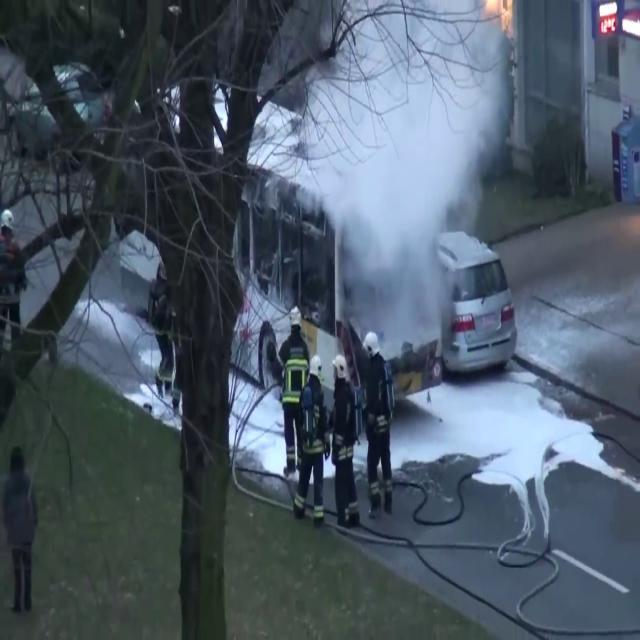Smoke: (314, 12, 528, 346)
